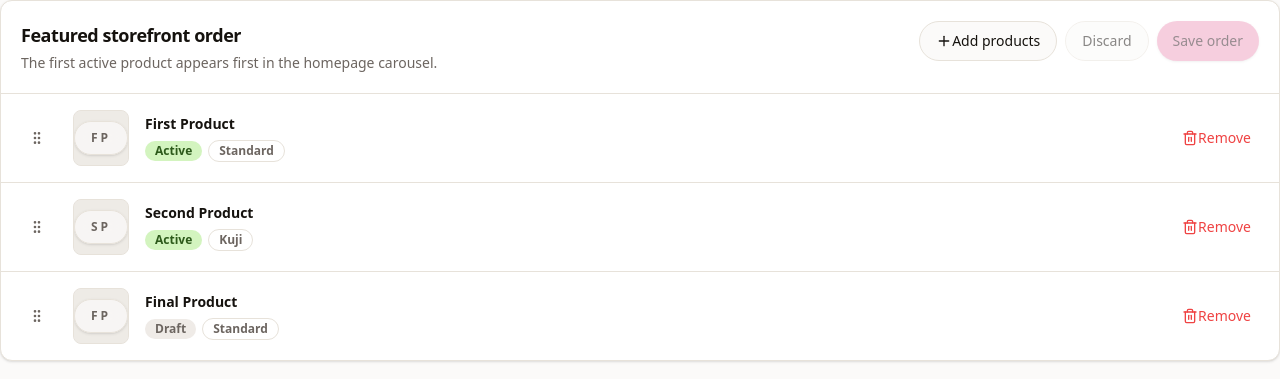
Test: FeaturedOrderSection › removes locally, keeps dragging separate, and discard restores the product
This screenshot has width=1280, height=379.
Step 1. Click the button with aria-label "Remove Second Product from Featured" → (1217, 227), box [1170,209,1263,245]
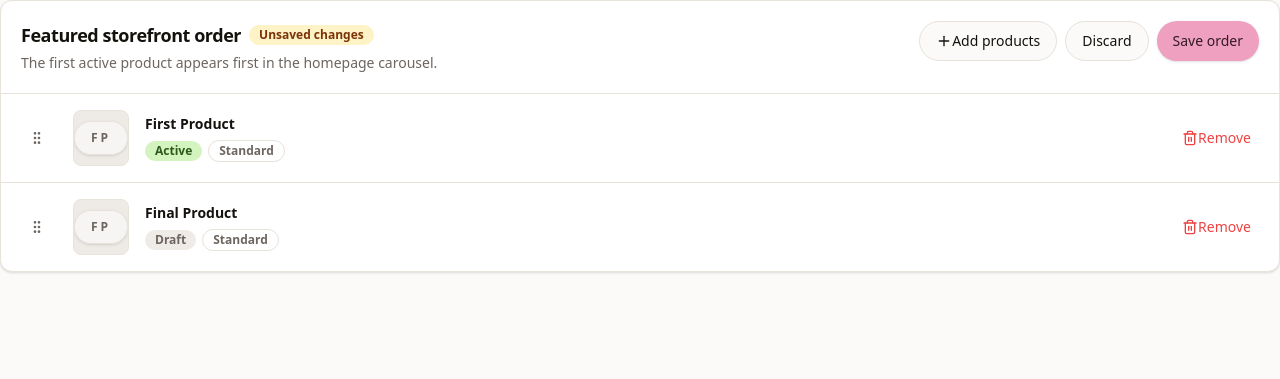
Expected: the text "Second Product" is gone
Expected: the text "Unsaved changes" is shown, [249,25,374,45]
Step 2. Click the button "Discard" → (1107, 41), box [1065,21,1148,61]
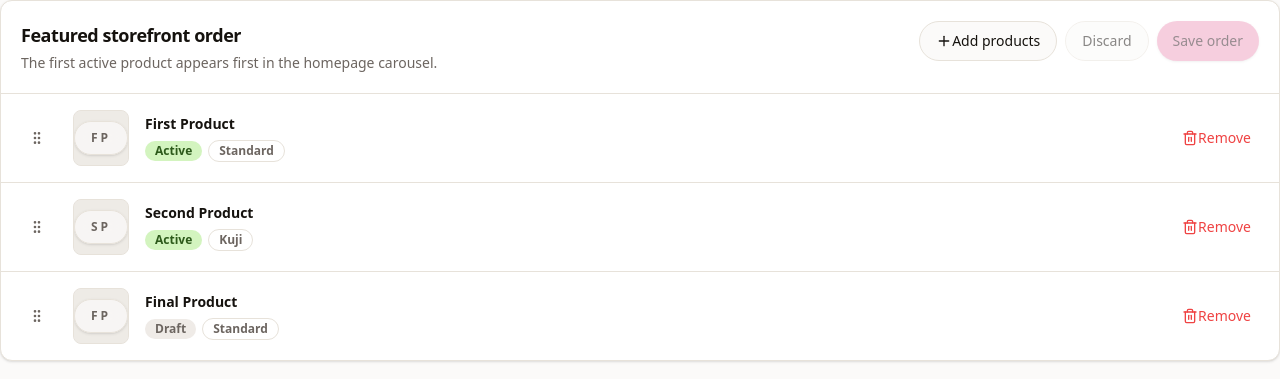
Expected: the text "Second Product" is shown, [145,203,253,222]
